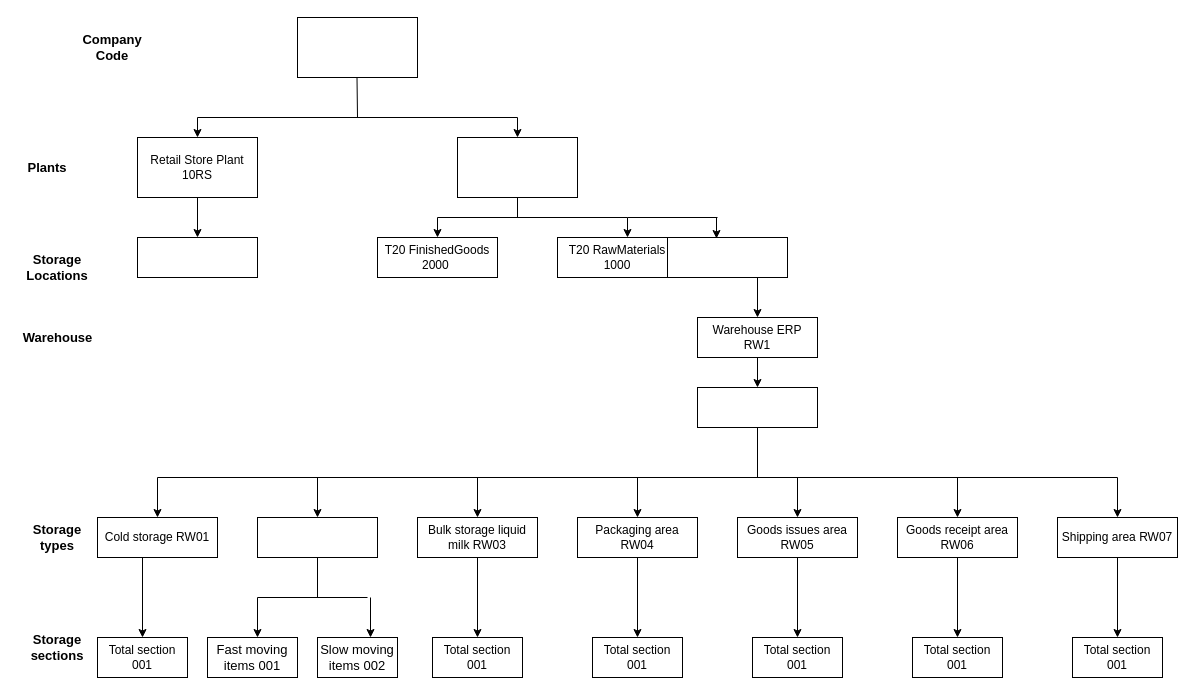
Some shapes in this 1195 by 695 pixel diagram are drawn without their labels. Here are the shapes that lost their labels. From the top down, the centre of each, then its label:
the point at 357,47: 10RP
the point at 517,167: Production Plant 10PP
the point at 197,257: Retail Store Storage Location 3000
the point at 727,257: T20EWM 1001
the point at 757,407: Warehouse EWM RW01
the point at 317,537: Shelf storage RW02
